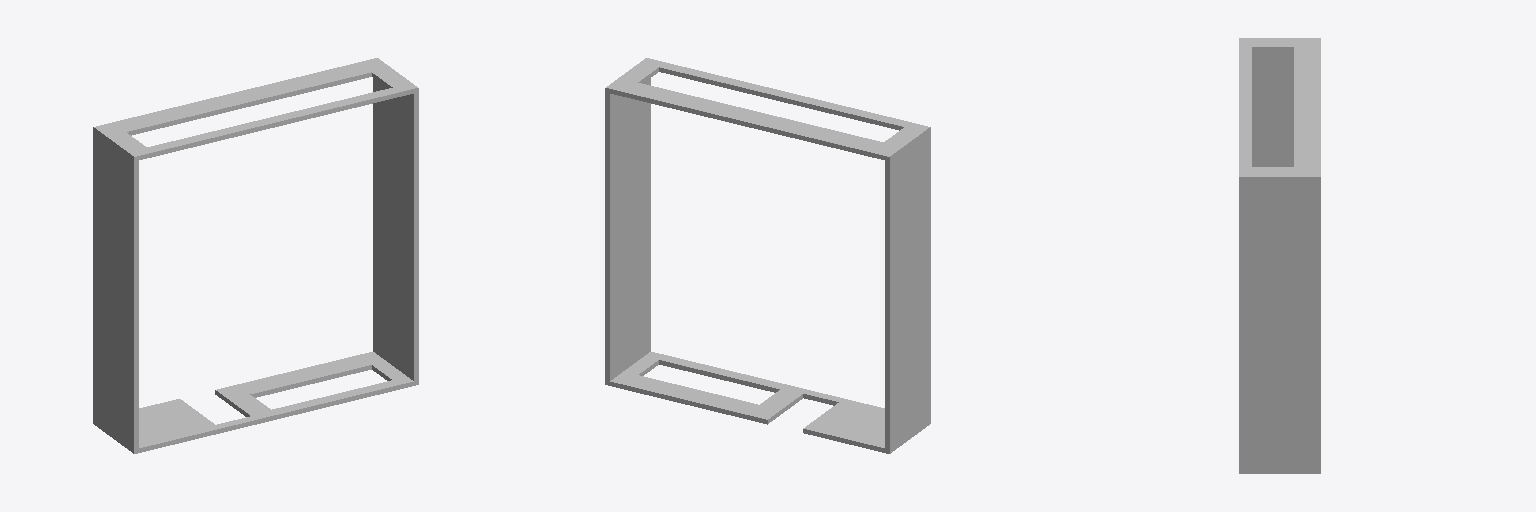
The model's file is walls.obj.
3 renders of one model, left to right at view 1: azimuth 30°, elevation 25°; view 2: azimuth 150°, elevation 25°; view 3: azimuth 270°, elevation 25°, orthographic.
Parts seen in each view (by area): view 1: floor_walls_Large; view 2: floor_walls_Large; view 3: floor_walls_Large.
Part boxes in pixels (x1,y1,x2,y2): floor_walls_Large: (93, 58, 418, 453); floor_walls_Large: (605, 58, 930, 453); floor_walls_Large: (1239, 38, 1320, 473).
Size of the model in its own units: 9.6 by 9.6 by 2.4.